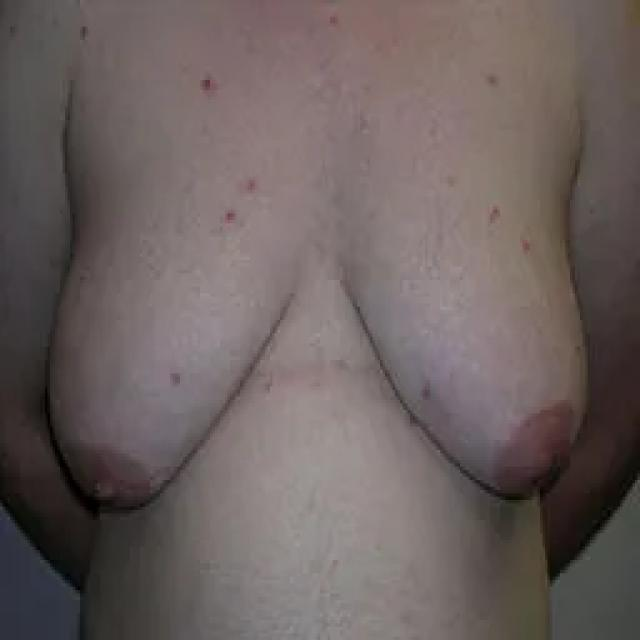Seno ileso: (37, 112, 311, 544), (327, 114, 598, 528)
